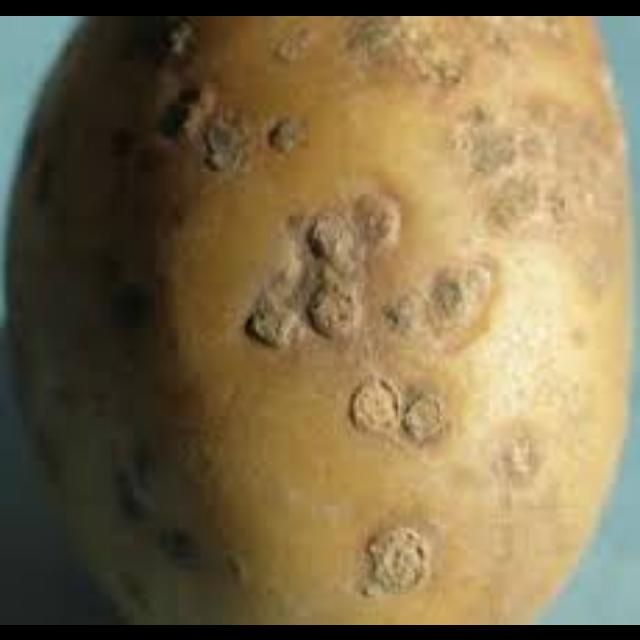Diseased-fungal potato: (17, 16, 628, 620)
